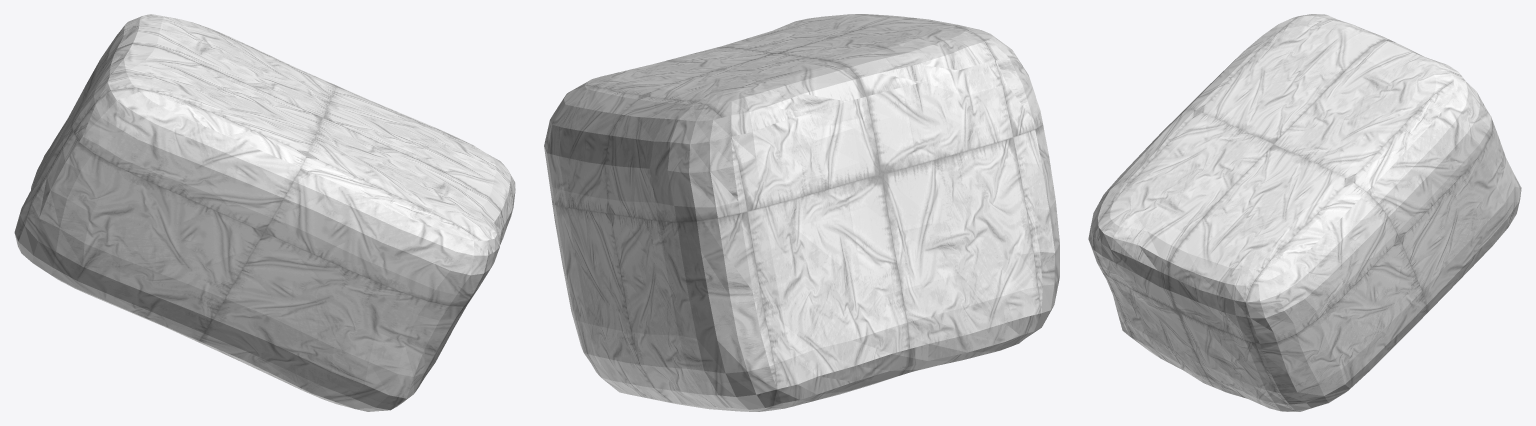
Rendered from ISS_INT_props_Bag_white_small.FBX.
3 views of the same model, side by side, from view 1: azimuth 30°, elevation 25°; view 2: azimuth 150°, elevation 25°; view 3: azimuth 270°, elevation 25° (orthographic). The views are drawn at different scales.
Parts seen in each view (by area): view 1: Columbus_int; view 2: Columbus_int; view 3: Columbus_int.
Boxes of the visible parts, <box> form: Columbus_int: <box>14,14,515,411</box>; Columbus_int: <box>544,14,1059,411</box>; Columbus_int: <box>1088,14,1521,411</box>.
Bounding box in the file's own units: 0.0506 × 0.0366 × 0.0506.
